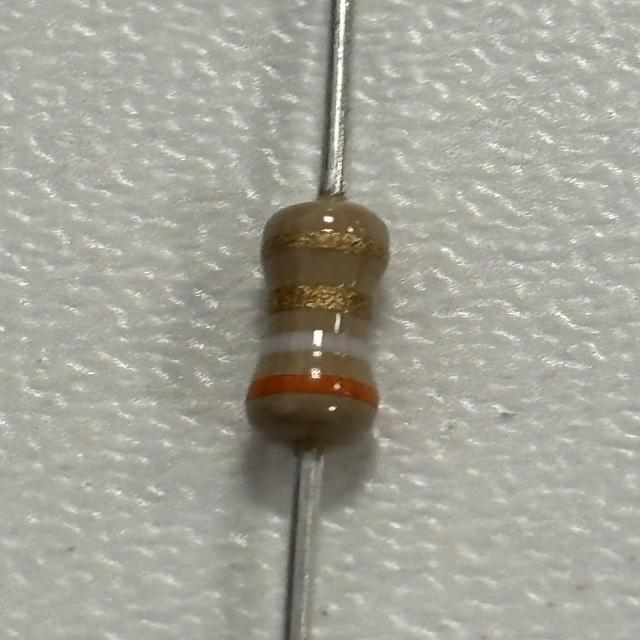resistor: (244, 208, 392, 438)
